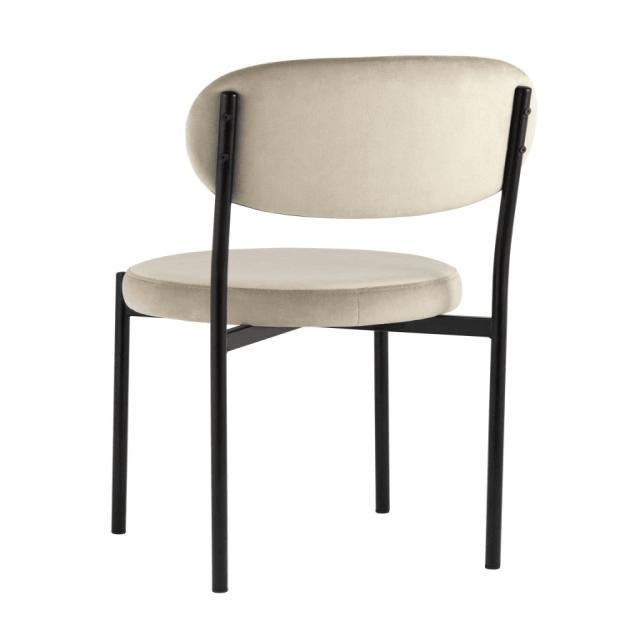chair: (93, 49, 540, 596), (115, 57, 528, 322)
